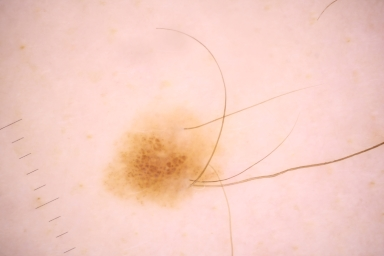melanoma: (108, 112, 221, 209)
